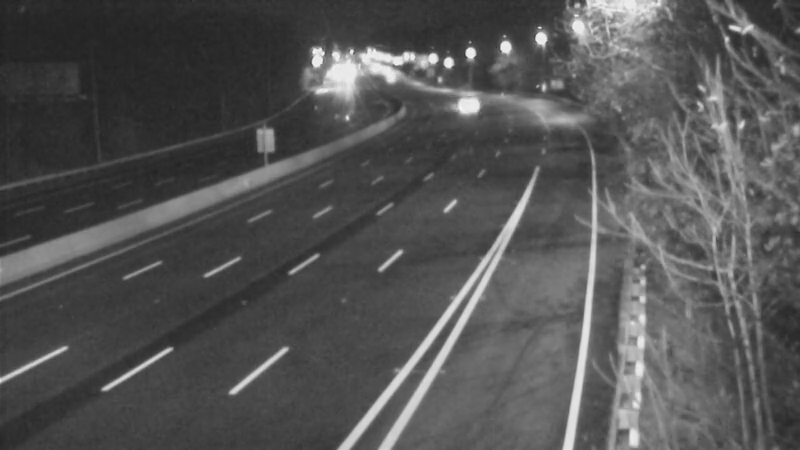vehicle: (440, 77, 490, 127)
